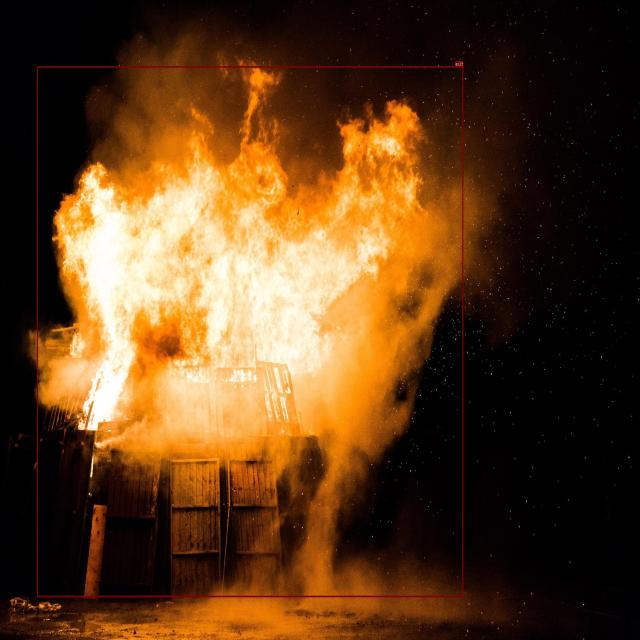fire: (38, 66, 464, 597)
